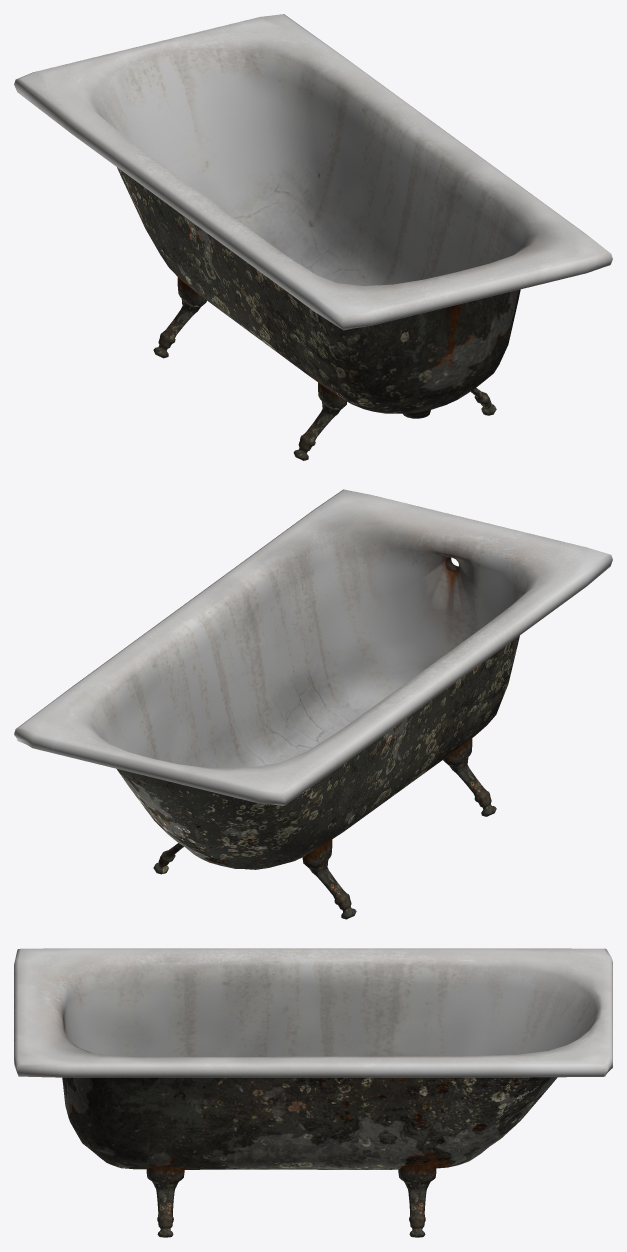
Rendered from old_bathtube.glb.
The picture shows the model from 3 angles, top to bottom: view 1: azimuth 30°, elevation 25°; view 2: azimuth 150°, elevation 25°; view 3: azimuth 270°, elevation 25°; orthographic projection. The views are drawn at different scales.
Parts seen in each view (by area): view 1: Bathtube.001; view 2: Bathtube.001; view 3: Bathtube.001.
Boxes of the visible parts, <box> form: Bathtube.001: <box>14,14,612,460</box>; Bathtube.001: <box>14,489,612,919</box>; Bathtube.001: <box>14,948,612,1237</box>.
Bounding box in the file's own units: 0.9613 × 0.7162 × 2.03.
1 material, 1 textured.
